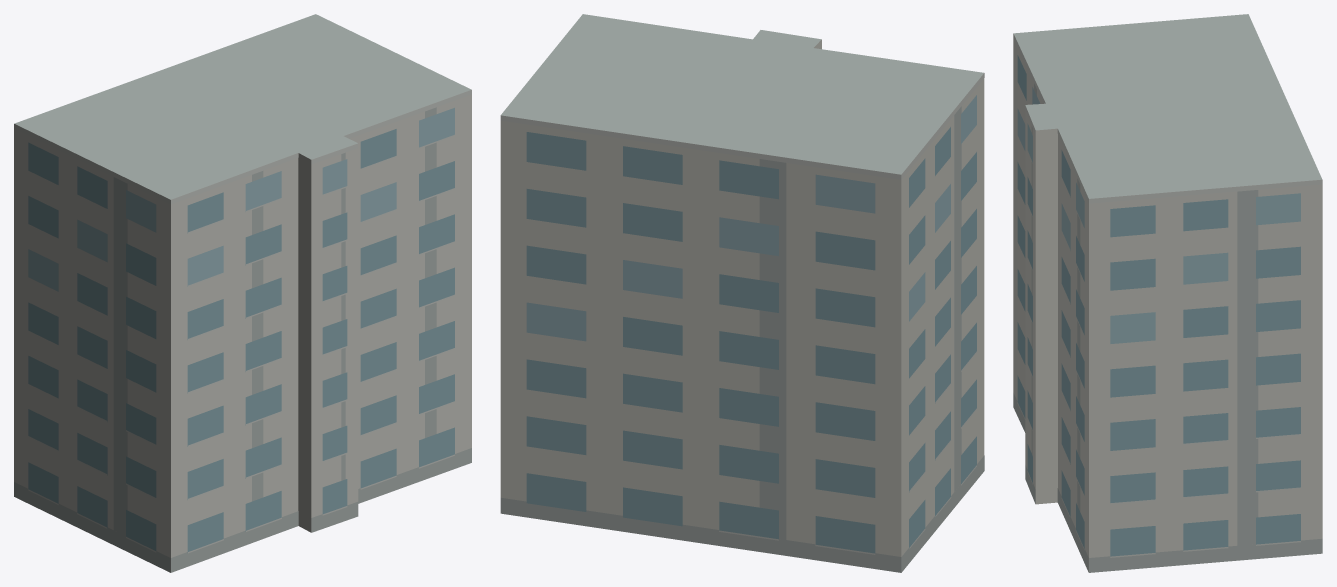
Rendered from survey-upis-33044904.glb.
3 views of the same model, side by side, from view 1: azimuth 30°, elevation 25°; view 2: azimuth 150°, elevation 25°; view 3: azimuth 270°, elevation 25° (orthographic). The views are drawn at different scales.
Parts seen in each view (by area): view 1: survey-upis-33044904.tmp; view 2: survey-upis-33044904.tmp; view 3: survey-upis-33044904.tmp.
Part boxes in pixels (x1,y1,x2,y2): survey-upis-33044904.tmp: (14,14,471,572); survey-upis-33044904.tmp: (500,14,984,572); survey-upis-33044904.tmp: (1013,14,1322,572).
Size of the model in its own units: 19.84 by 18.7 by 14.02.
